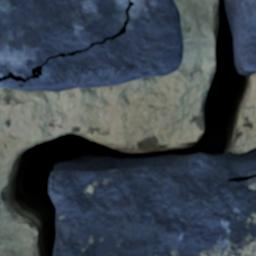brick: (50, 148, 255, 255), (0, 0, 182, 90), (0, 0, 127, 76), (226, 0, 255, 73)
crack: (2, 0, 253, 255), (0, 0, 134, 87)
